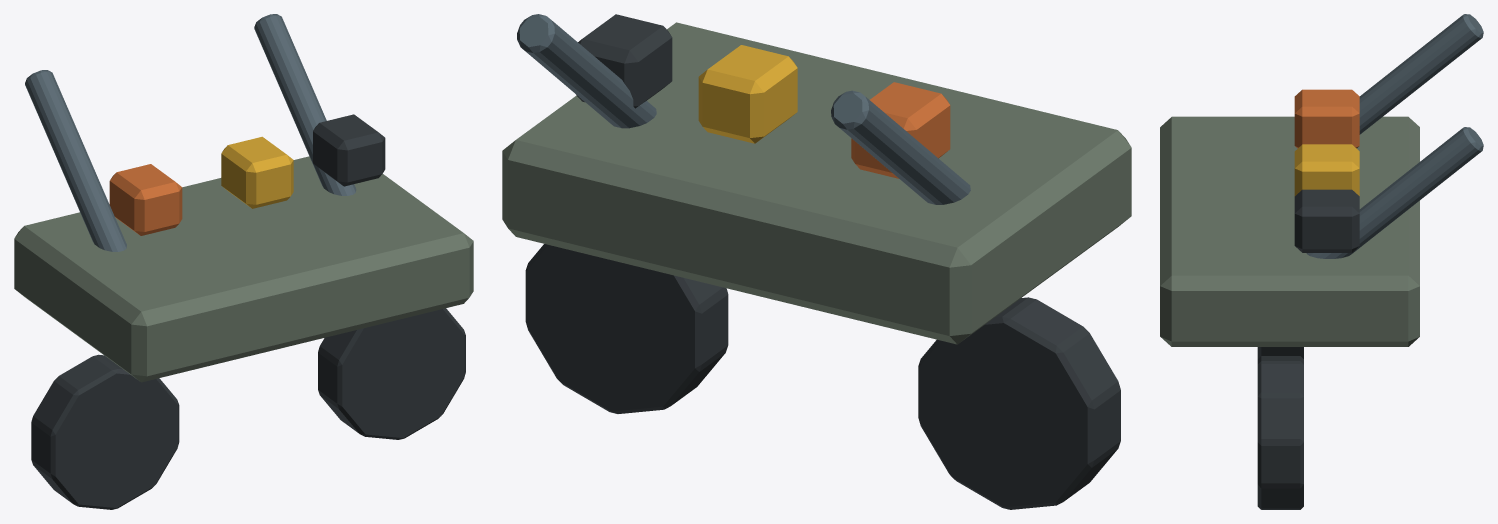
Rendered from PRP_CITY_015_garden_tool_cart.glb.
3 views of the same model, side by side, from view 1: azimuth 30°, elevation 25°; view 2: azimuth 150°, elevation 25°; view 3: azimuth 270°, elevation 25° (orthographic). The views are drawn at different scales.
Parts seen in each view (by area): view 1: PRP_CITY_015_garden_tool_cart_RenderMesh; view 2: PRP_CITY_015_garden_tool_cart_RenderMesh; view 3: PRP_CITY_015_garden_tool_cart_RenderMesh.
Boxes of the visible parts, x1,y1,x2,y2 form: PRP_CITY_015_garden_tool_cart_RenderMesh: [14, 14, 473, 509]; PRP_CITY_015_garden_tool_cart_RenderMesh: [502, 14, 1131, 509]; PRP_CITY_015_garden_tool_cart_RenderMesh: [1160, 14, 1483, 509].
Size of the model in its own units: 1.04 by 0.8574 by 0.6973.
